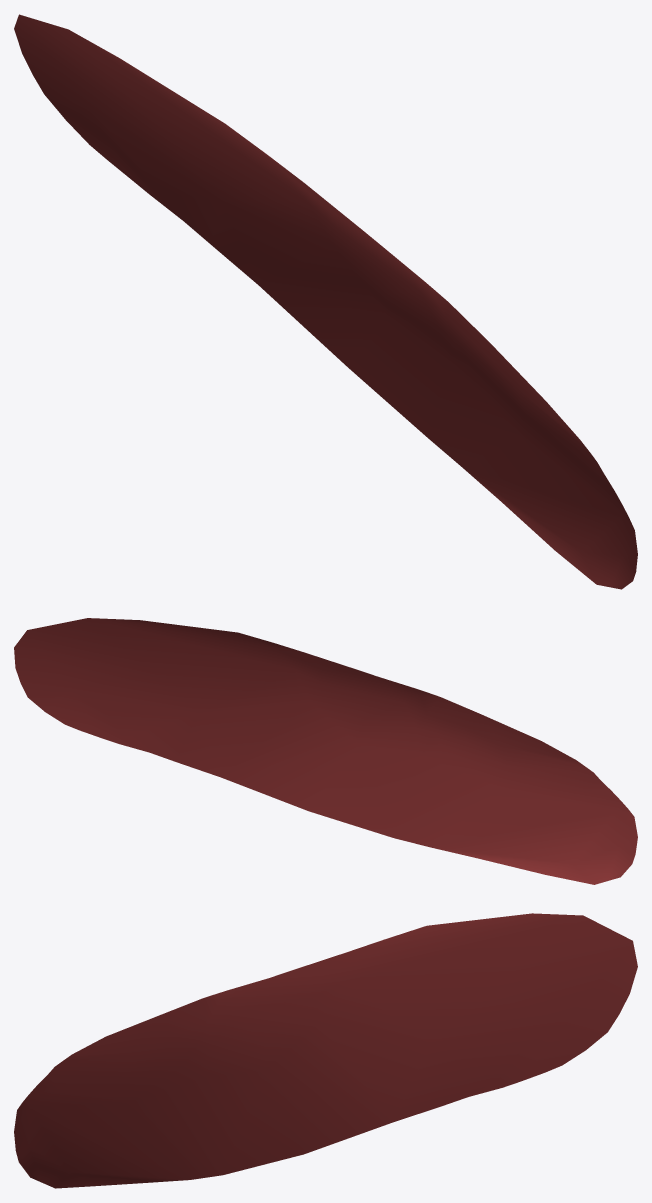
File: pectoralis-minor-muscle-el.glb
The picture shows the model from 3 angles, top to bottom: view 1: azimuth 90°, elevation 25°; view 2: azimuth 150°, elevation 25°; view 3: azimuth 270°, elevation 25°; orthographic projection. The views are drawn at different scales.
Parts seen in each view (by area): view 1: Pectoralis minor muscle.el; view 2: Pectoralis minor muscle.el; view 3: Pectoralis minor muscle.el.
Part boxes in pixels (x1=…): Pectoralis minor muscle.el: x1=14, y1=14, x2=637, y2=589; Pectoralis minor muscle.el: x1=14, y1=618, x2=637, y2=884; Pectoralis minor muscle.el: x1=14, y1=913, x2=637, y2=1188.
Size of the model in its own units: 0.0278 by 0.0295 by 0.0403.
